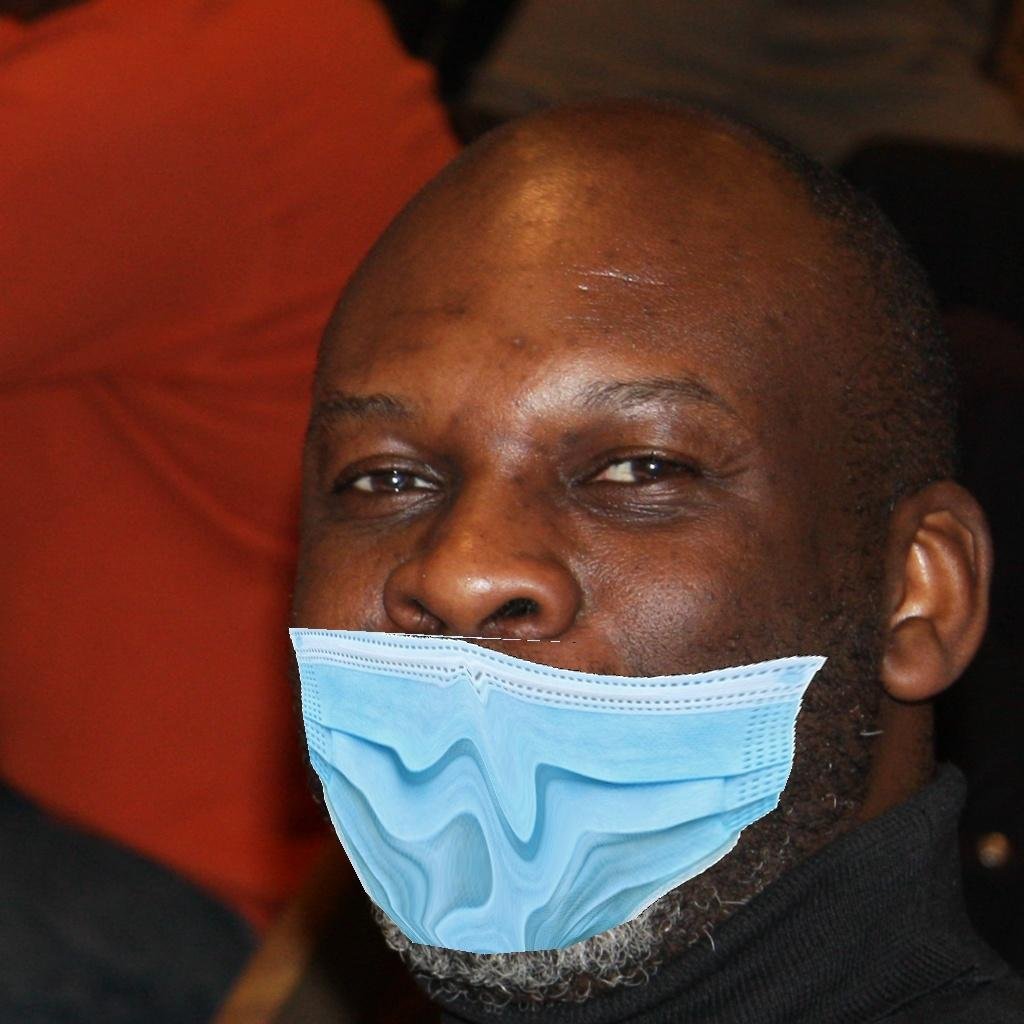Máscara Incorreta: (253, 224, 898, 971)
